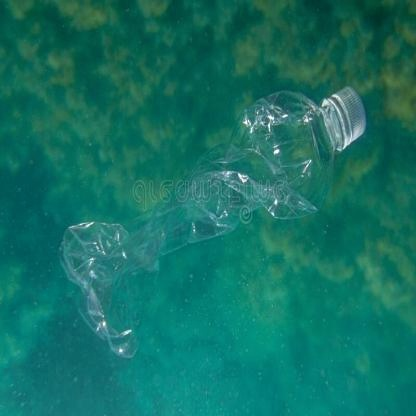pbottle: (53, 70, 374, 362)
